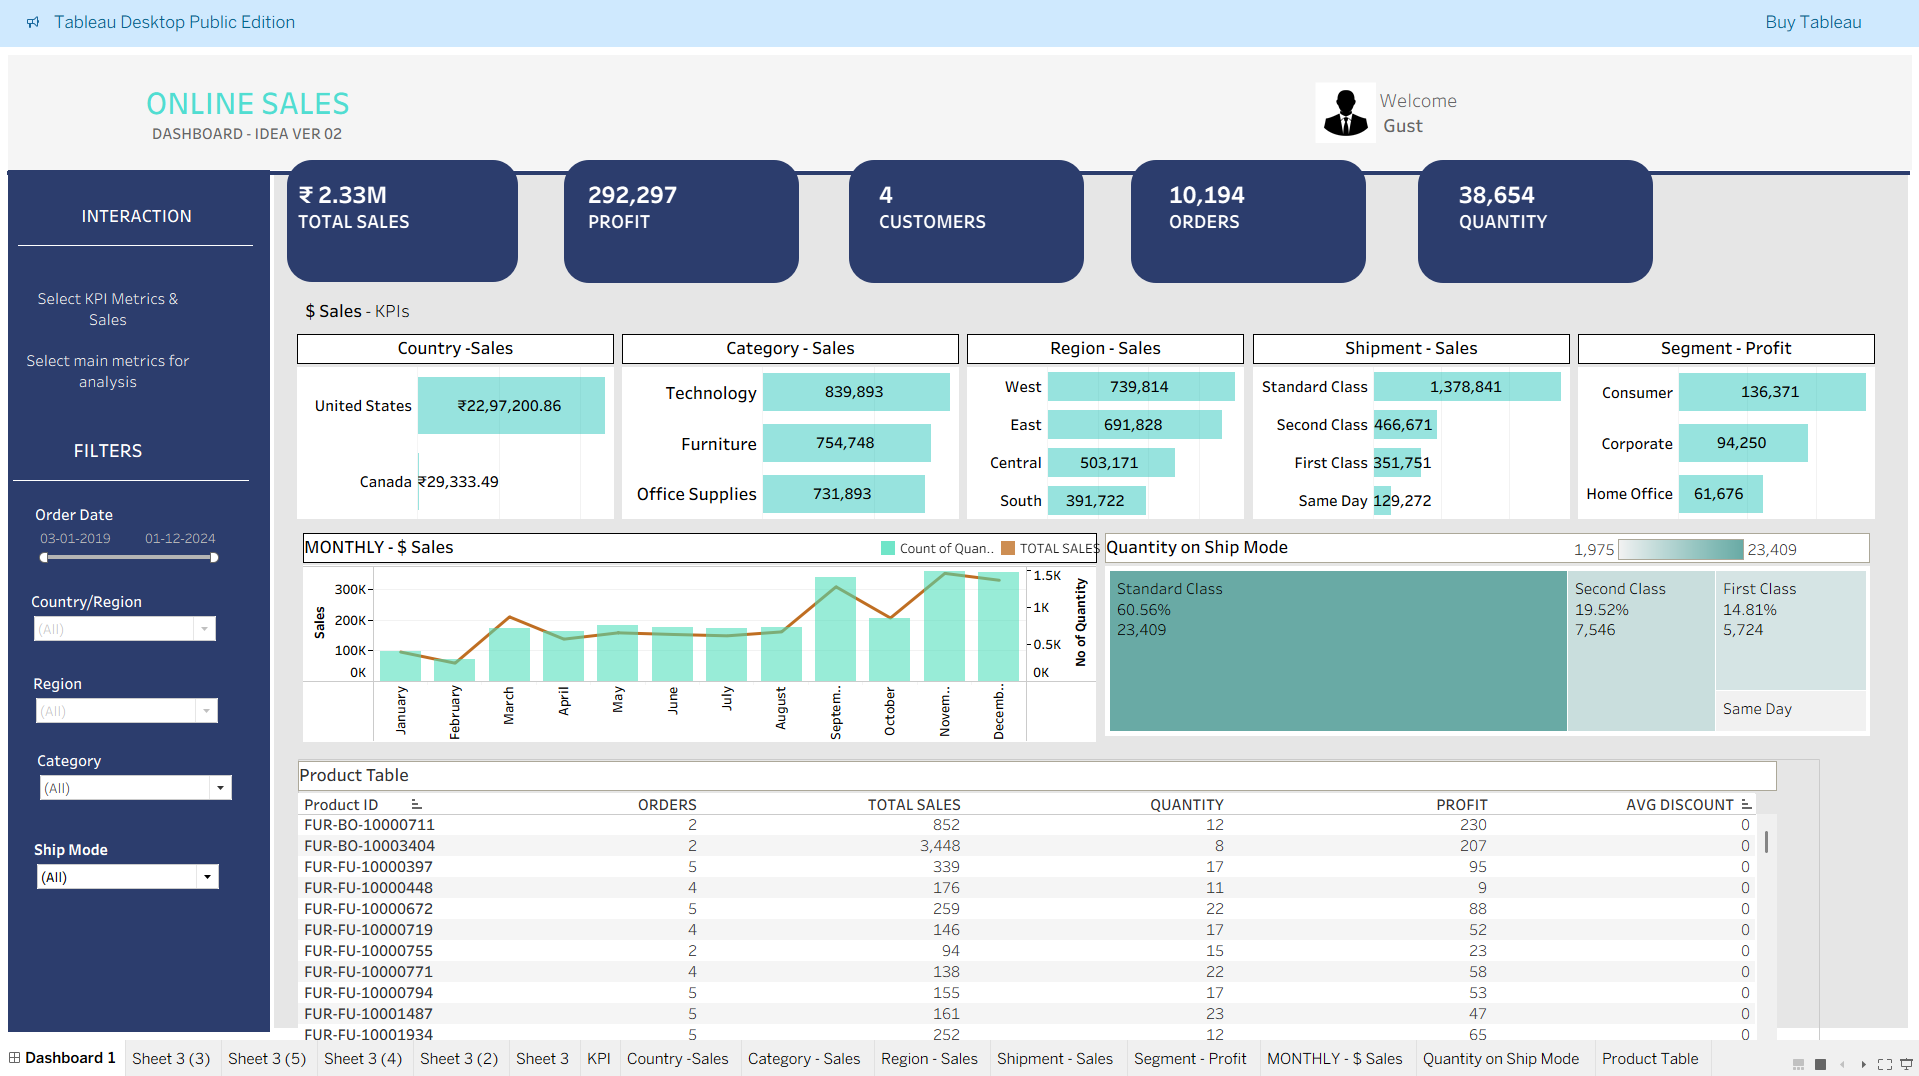

The dashboard page shown, as its layout file describes it:
{"tool":"tableau","page":{"name":"Dashboard 1","canvas":[1000,1000],"units":"permille","ordinal":0},"visuals":[{"type":"image","box":[4.9,10,33,115.9]},{"type":"text","box":[37.9,10,646.8,115.9]},{"type":"image","box":[684.7,10,31.9,115.9]},{"type":"text","box":[716.6,10,278.5,115.9]},{"type":"image","box":[791.4,37.5,27.6,51.2]},{"type":"worksheet","title":"Sheet 3","mark":"Automatic","box":[149.7,113.6,122.7,124.8]},{"type":"worksheet","title":"Sheet 3 (2)","mark":"Automatic","box":[293.9,113.6,122.7,124.8]},{"type":"worksheet","title":"Sheet 3 (3)","mark":"Automatic","box":[442.3,113.6,122.7,124.8]},{"type":"worksheet","title":"Sheet 3 (4)","mark":"Automatic","box":[589,113.6,122.7,124.8]},{"type":"worksheet","title":"Sheet 3 (5)","mark":"Automatic","box":[738.6,113.6,122.7,124.8]},{"type":"blank","box":[141,125.9,854.1,864.2]},{"type":"worksheet","title":"KPI","mark":"Automatic","box":[153.4,132.3,756.4,87.4]},{"type":"text","box":[29.4,151.1,82.8,37.5]},{"type":"text","box":[10.4,226,91.4,139.8]},{"type":"text","box":[157.1,247.2,68.7,37.5]},{"type":"worksheet","title":"Country -Sales","mark":"Automatic","rows":["Country/Region"],"cols":["Sales"],"box":[152.8,284.6,170.1,194.8]},{"type":"worksheet","title":"Category - Sales","mark":"Automatic","rows":["Category"],"cols":["Sales"],"box":[322.8,284.6,182.3,194.7]},{"type":"worksheet","title":"Region - Sales","mark":"Automatic","rows":["Region"],"cols":["Sales"],"box":[505.2,284.6,145.5,194.8]},{"type":"worksheet","title":"Shipment - Sales","mark":"Automatic","rows":["Ship Mode"],"cols":["Sales"],"box":[650.7,284.6,170.1,194.8]},{"type":"worksheet","title":"Segment - Profit","mark":"Automatic","rows":["Segment"],"cols":["Profit"],"box":[820.7,284.6,157.8,194.7]},{"type":"text","box":[25.8,387,61.4,37.5]},{"type":"filter","title":"KPI","param":"[federated.1hf4ub40yhjd9816rr3ff1nw5i3z].[none:Order Date:qk]","box":[18.4,460.7,98.2,81.2]},{"type":"worksheet","title":"MONTHLY - $ Sales","mark":"Automatic","rows":["Sales","Quantity"],"cols":["Order Date"],"box":[155.8,485.6,492,218.5]},{"type":"worksheet","title":"Quantity on Ship Mode","mark":"Automatic","box":[647.9,485.6,328.2,218.5]},{"type":"legend","title":"Quantity on Ship Mode","param":"[federated.1hf4ub40yhjd9816rr3ff1nw5i3z].[sum:Quantity:qk]","box":[817.8,491.9,120.9,37.5]},{"type":"legend","title":"MONTHLY - $ Sales","param":"[federated.1hf4ub40yhjd9816rr3ff1nw5i3z].[:Measure Names]","box":[457.1,494.4,167.5,30]},{"type":"filter","title":"KPI","param":"[federated.1hf4ub40yhjd9816rr3ff1nw5i3z].[none:Country/Region:nk]","box":[16,548.1,98.2,66.2]},{"type":"filter","title":"KPI","param":"[federated.1hf4ub40yhjd9816rr3ff1nw5i3z].[none:Region:nk]","box":[17.2,630.5,98.2,66.2]},{"type":"filter","title":"Country -Sales","param":"[federated.1hf4ub40yhjd9816rr3ff1nw5i3z].[none:Category:nk]","box":[19,707.9,103.1,76.2]},{"type":"filter","title":"KPI","param":"[federated.1hf4ub40yhjd9816rr3ff1nw5i3z].[none:Ship Mode:nk]","box":[17.8,797.8,98.2,66.2]}]}

Visuals, with their boxes on the dashboard's canvas, which has no fixed pixel size, in thousandths of its width and height (x1, y1, x2, y2). These are canvas units, not pixel positions in the 1919x1076 screenshot, which may show the page scaled, cropped or inside an application window:
image: [x1=5, y1=10, x2=38, y2=126]
text: [x1=38, y1=10, x2=685, y2=126]
image: [x1=685, y1=10, x2=717, y2=126]
text: [x1=717, y1=10, x2=995, y2=126]
image: [x1=791, y1=38, x2=819, y2=89]
"Sheet 3" worksheet: [x1=150, y1=114, x2=272, y2=238]
"Sheet 3 (2)" worksheet: [x1=294, y1=114, x2=417, y2=238]
"Sheet 3 (3)" worksheet: [x1=442, y1=114, x2=565, y2=238]
"Sheet 3 (4)" worksheet: [x1=589, y1=114, x2=712, y2=238]
"Sheet 3 (5)" worksheet: [x1=739, y1=114, x2=861, y2=238]
blank: [x1=141, y1=126, x2=995, y2=990]
"KPI" worksheet: [x1=153, y1=132, x2=910, y2=220]
text: [x1=29, y1=151, x2=112, y2=189]
text: [x1=10, y1=226, x2=102, y2=366]
text: [x1=157, y1=247, x2=226, y2=285]
"Country -Sales" worksheet: [x1=153, y1=285, x2=323, y2=479]
"Category - Sales" worksheet: [x1=323, y1=285, x2=505, y2=479]
"Region - Sales" worksheet: [x1=505, y1=285, x2=651, y2=479]
"Shipment - Sales" worksheet: [x1=651, y1=285, x2=821, y2=479]
"Segment - Profit" worksheet: [x1=821, y1=285, x2=978, y2=479]
text: [x1=26, y1=387, x2=87, y2=424]
"KPI" filter: [x1=18, y1=461, x2=117, y2=542]
"MONTHLY - $ Sales" worksheet: [x1=156, y1=486, x2=648, y2=704]
"Quantity on Ship Mode" worksheet: [x1=648, y1=486, x2=976, y2=704]
"Quantity on Ship Mode" legend: [x1=818, y1=492, x2=939, y2=529]
"MONTHLY - $ Sales" legend: [x1=457, y1=494, x2=625, y2=524]
"KPI" filter: [x1=16, y1=548, x2=114, y2=614]
"KPI" filter: [x1=17, y1=630, x2=115, y2=697]
"Country -Sales" filter: [x1=19, y1=708, x2=122, y2=784]
"KPI" filter: [x1=18, y1=798, x2=116, y2=864]
